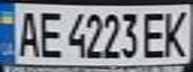2: (81, 9, 106, 60), (103, 9, 124, 60)
3: (118, 9, 142, 60)
4: (63, 8, 87, 60)
A: (12, 7, 42, 58)
E: (139, 8, 172, 60), (33, 7, 63, 58)
K: (160, 7, 193, 58)
